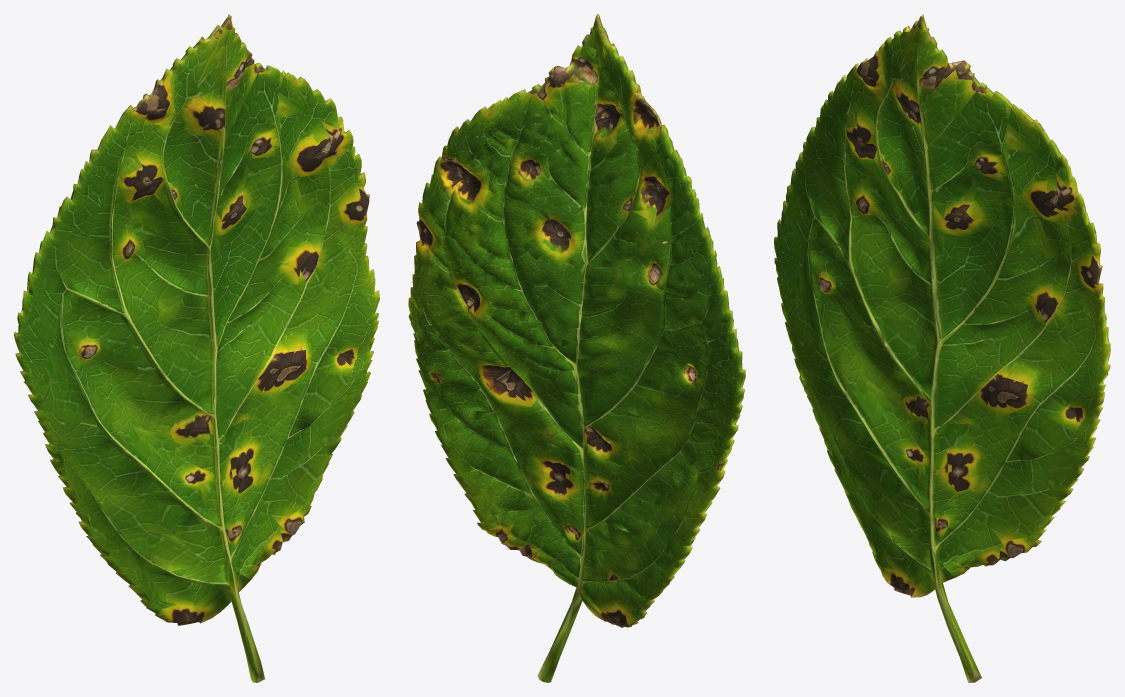
The model's file is apple_black_rot.glb.
The picture shows the model from 3 angles, left to right: view 1: azimuth 30°, elevation 25°; view 2: azimuth 150°, elevation 25°; view 3: azimuth 330°, elevation 25°; orthographic projection. The views are drawn at different scales.
Visible parts, largest first — view 1: apple_black_rot; view 2: apple_black_rot; view 3: apple_black_rot.
Boxes of the visible parts, <box> form: apple_black_rot: <box>14,14,379,682</box>; apple_black_rot: <box>408,14,745,682</box>; apple_black_rot: <box>774,14,1110,682</box>.
Size of the model in its own units: 0.5418 by 0.9998 by 0.0927.
Materials: 1 (1 with a texture image).
